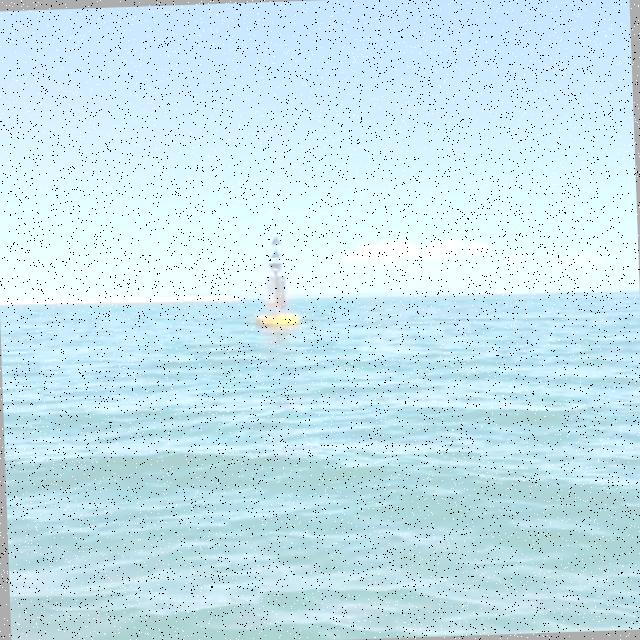marque: (261, 236, 304, 328)
